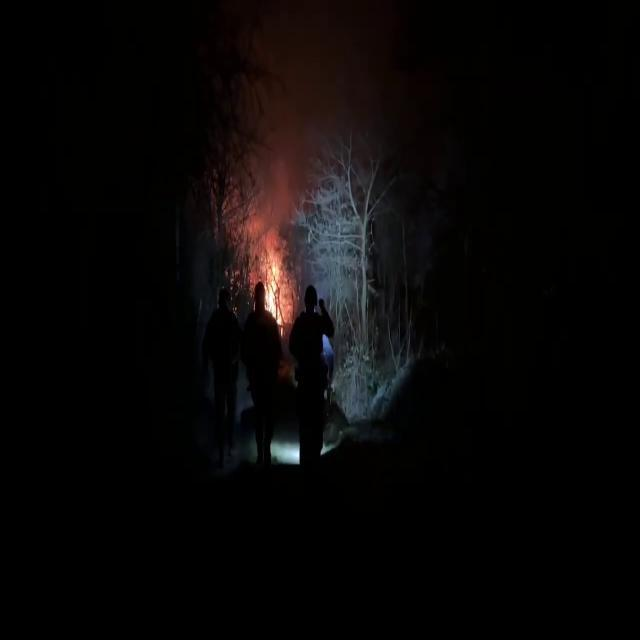Fire: (258, 242, 290, 329)
Smoke: (232, 1, 430, 227)
